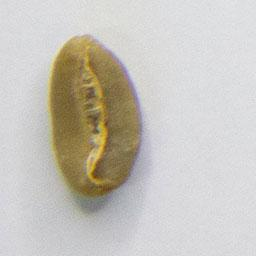longberry: (45, 30, 146, 201)
